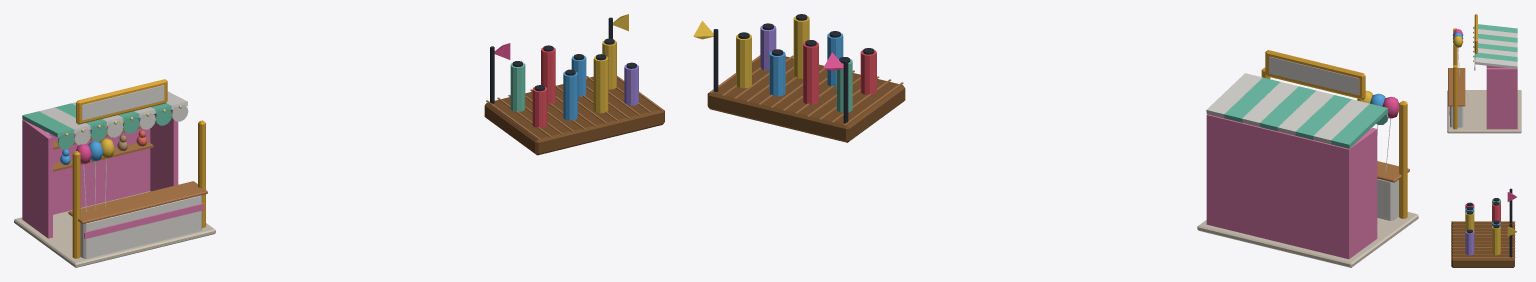
The model's file is park-thrills.glb.
The picture shows the model from 3 angles, left to right: view 1: azimuth 30°, elevation 25°; view 2: azimuth 150°, elevation 25°; view 3: azimuth 270°, elevation 25°; orthographic projection. The views are drawn at different scales.
Visible parts, largest first — view 1: pk_giftshop_mesh, pk_barge_mesh; view 2: pk_giftshop_mesh, pk_barge_mesh; view 3: pk_giftshop_mesh, pk_barge_mesh.
Boxes of the visible parts, box(x1,y1,x2,y2) form: pk_giftshop_mesh: box(14, 79, 215, 267); pk_barge_mesh: box(484, 14, 664, 155); pk_giftshop_mesh: box(1197, 50, 1418, 267); pk_barge_mesh: box(693, 14, 905, 142); pk_giftshop_mesh: box(1447, 14, 1521, 133); pk_barge_mesh: box(1451, 188, 1516, 267).
Bounding box in the file's own units: 15.8 × 3.7 × 2.8.
